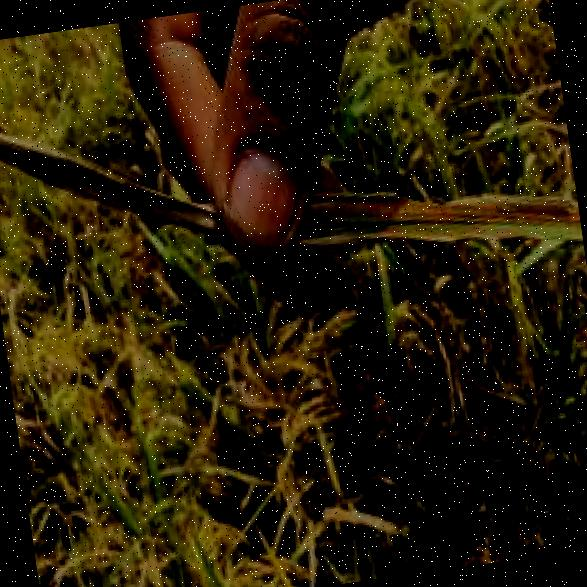Bacteria_Leaf_Blight: (0, 36, 581, 348)
